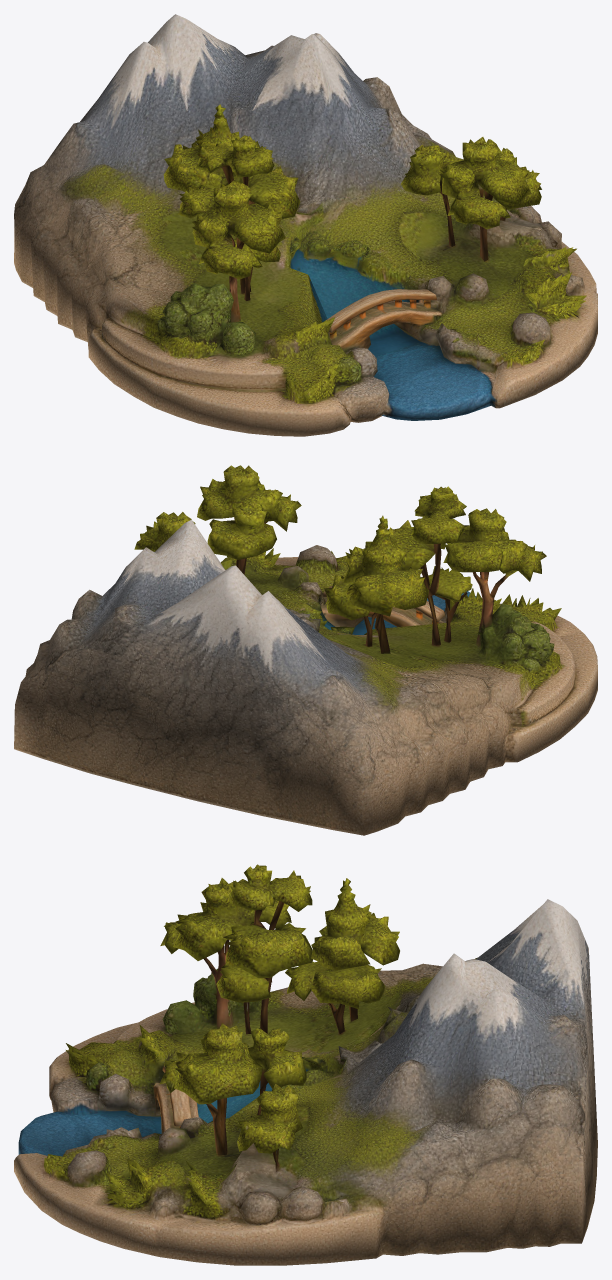
Rendered from landscape.glb.
3 views of the same model, one above another, from view 1: azimuth 30°, elevation 25°; view 2: azimuth 150°, elevation 25°; view 3: azimuth 270°, elevation 25° (orthographic). The views are drawn at different scales.
Visible parts, largest first — view 1: tripo_node_9a8862a4-2906-47c6-bc39-255fe2f05e8a; view 2: tripo_node_9a8862a4-2906-47c6-bc39-255fe2f05e8a; view 3: tripo_node_9a8862a4-2906-47c6-bc39-255fe2f05e8a.
Boxes of the visible parts, box(x1,y1,x2,y2) form: tripo_node_9a8862a4-2906-47c6-bc39-255fe2f05e8a: box(14, 14, 597, 436); tripo_node_9a8862a4-2906-47c6-bc39-255fe2f05e8a: box(14, 465, 597, 835); tripo_node_9a8862a4-2906-47c6-bc39-255fe2f05e8a: box(14, 864, 597, 1265).
Bounding box in the file's own units: 0.9316 × 0.4473 × 0.998.
Materials: 1 (1 with a texture image).
